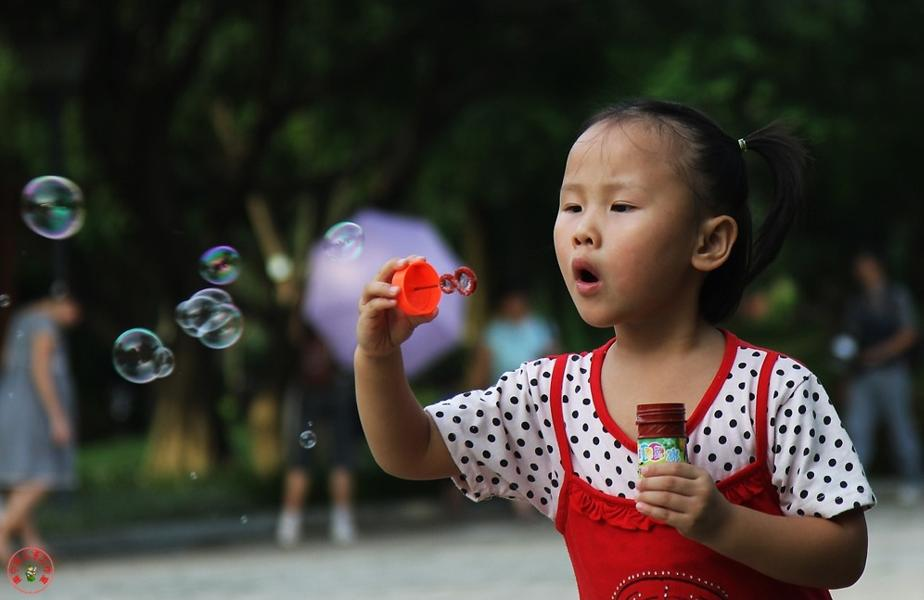person: (351, 99, 878, 600)
